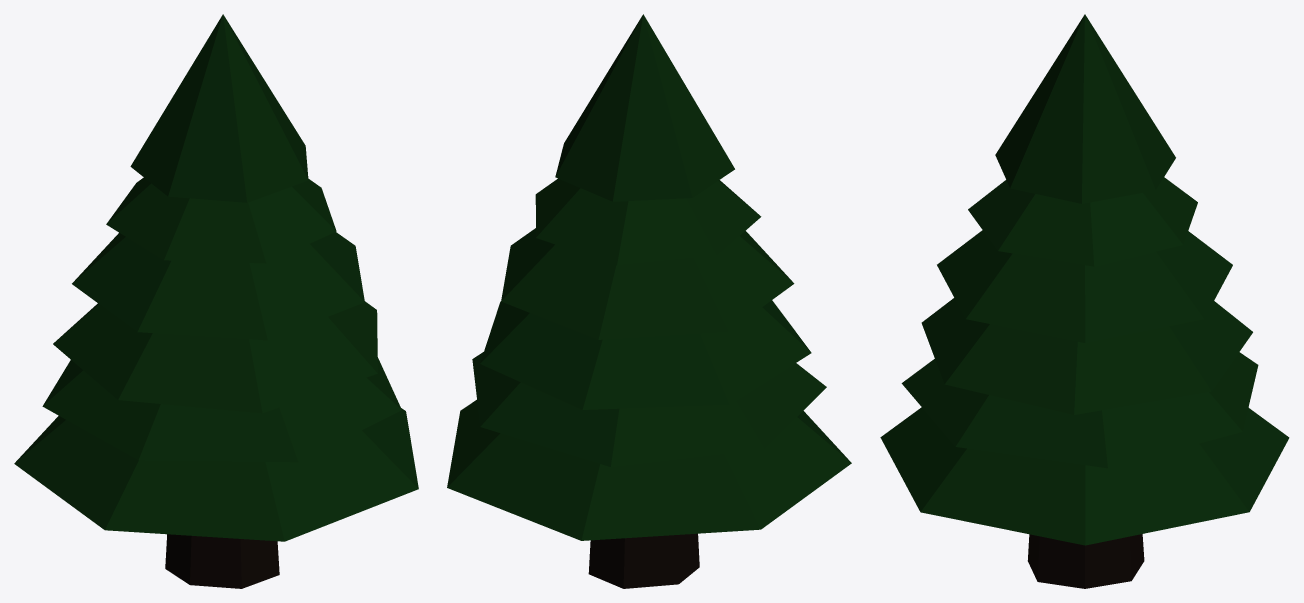
Rendered from Evergreen_Tree_LOD2.FBX.
3 renders of one model, left to right at view 1: azimuth 30°, elevation 25°; view 2: azimuth 150°, elevation 25°; view 3: azimuth 270°, elevation 25°, orthographic.
Parts seen in each view (by area): view 1: Evergreen_Trees_LOD2; view 2: Evergreen_Trees_LOD2; view 3: Evergreen_Trees_LOD2.
Part boxes in pixels (x1,y1,x2,y2): Evergreen_Trees_LOD2: (14,14,418,588); Evergreen_Trees_LOD2: (447,14,851,588); Evergreen_Trees_LOD2: (880,14,1289,588).
Size of the model in its own units: 272 by 414 by 278.
